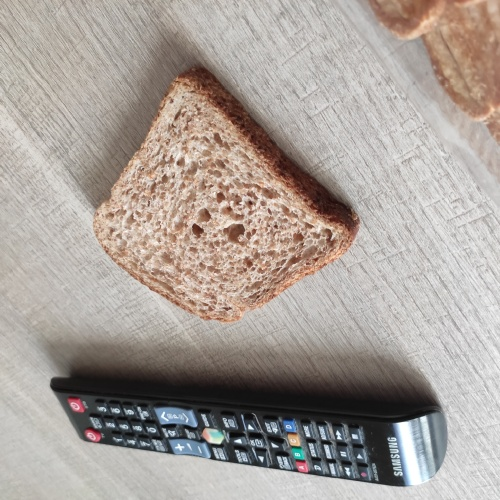pane: (87, 57, 362, 327)
